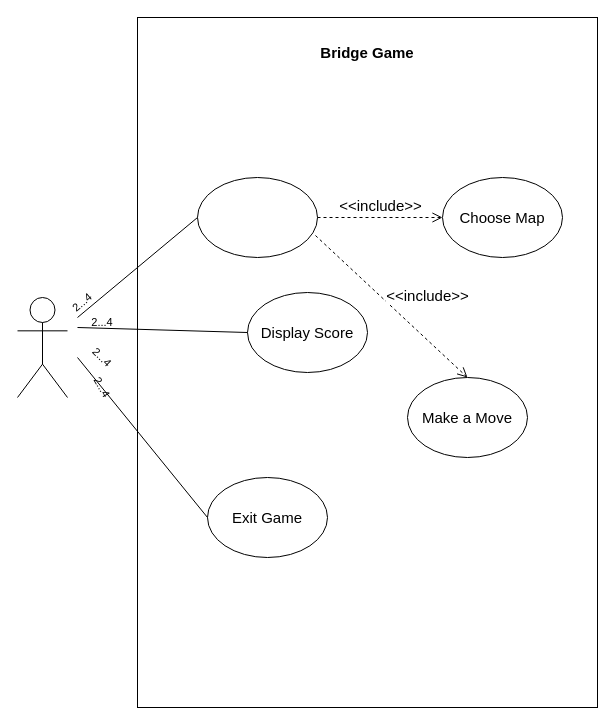
Some shapes in this 615 by 725 pixel diagram are drawn without their labels. Each missing label, with the centre of its shape:
"Play Game" belongs at point (257, 217).
"Player" belongs at point (42, 347).
